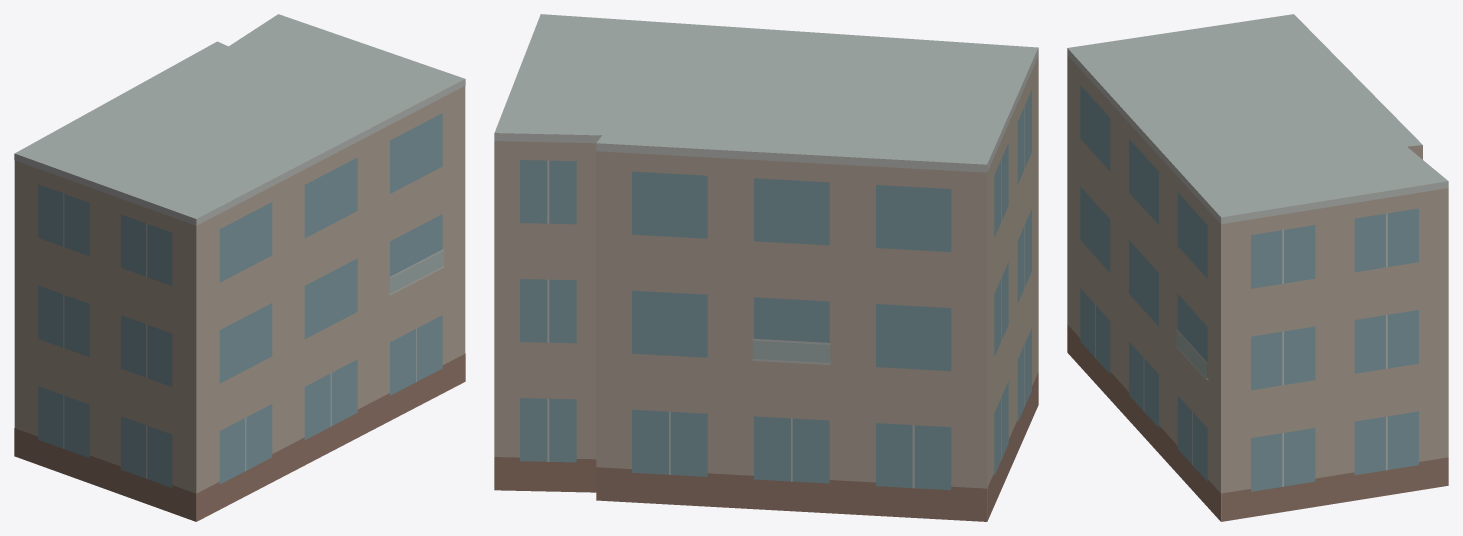
Rendered from survey-upis-32844807.glb.
The picture shows the model from 3 angles, left to right: view 1: azimuth 30°, elevation 25°; view 2: azimuth 150°, elevation 25°; view 3: azimuth 270°, elevation 25°; orthographic projection. The views are drawn at different scales.
Parts seen in each view (by area): view 1: survey-upis-32844807.tmp; view 2: survey-upis-32844807.tmp; view 3: survey-upis-32844807.tmp.
Part boxes in pixels (x1,y1,x2,y2): survey-upis-32844807.tmp: (14, 14, 465, 521); survey-upis-32844807.tmp: (494, 14, 1038, 521); survey-upis-32844807.tmp: (1067, 14, 1448, 521).
Size of the model in its own units: 15.63 by 10.9 by 12.38.
